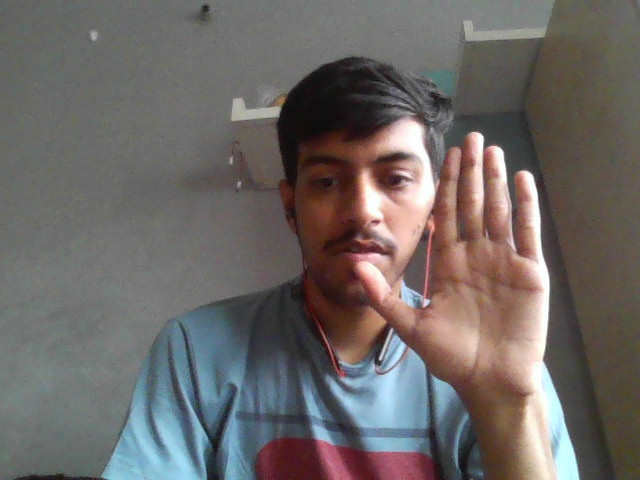Hello: (351, 126, 559, 401)
